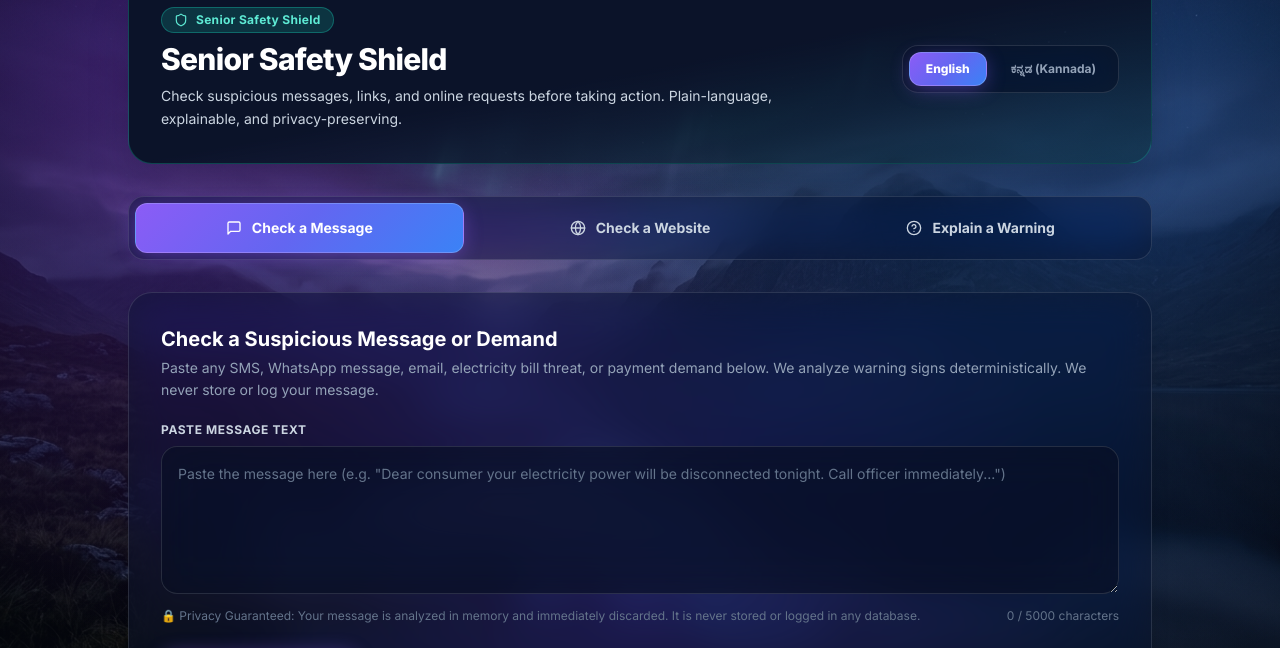
Scenario: Senior Safety Shield — Frontend & Dashboard Integration › SafetyShieldPage Component › Check a Message: handles API failure with clear error alert
The image size is (1280, 648).
Replace the text in the text box with placeholder "Paste the message here" with "Suspicious test message" at (640, 520), box 161,446 -> 1119,594
(page scrolled)
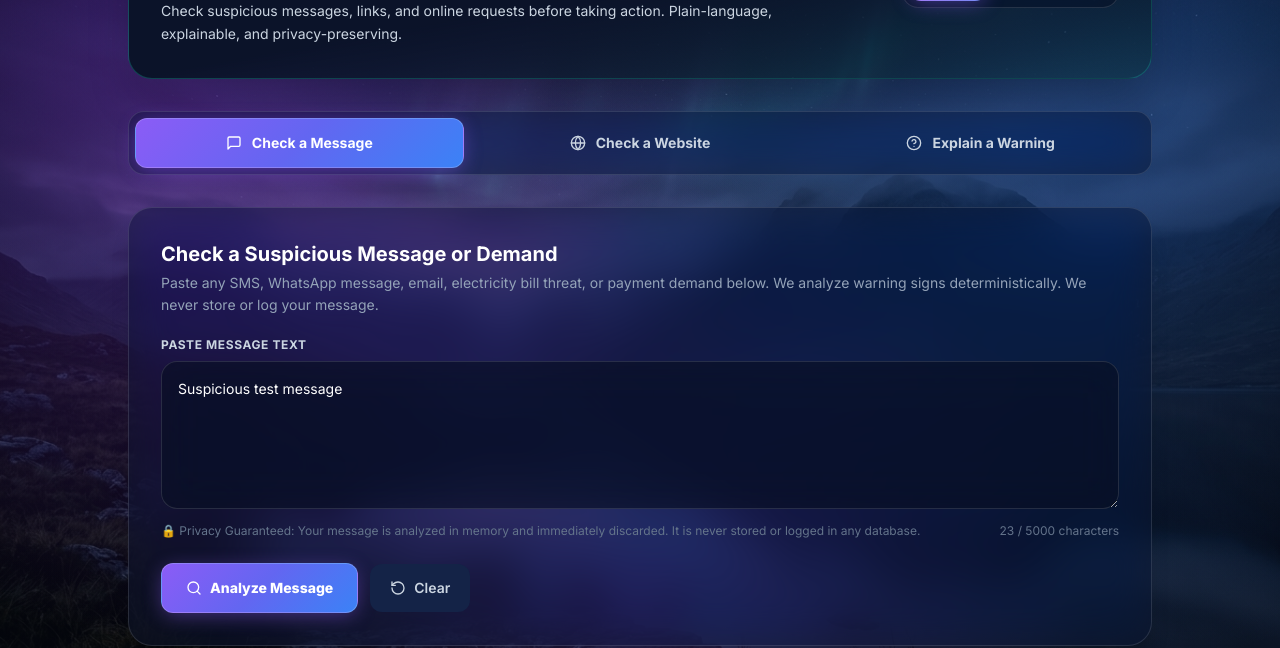
Click the button "Analyze Message".
click(260, 588)  # box 161,563 -> 358,613
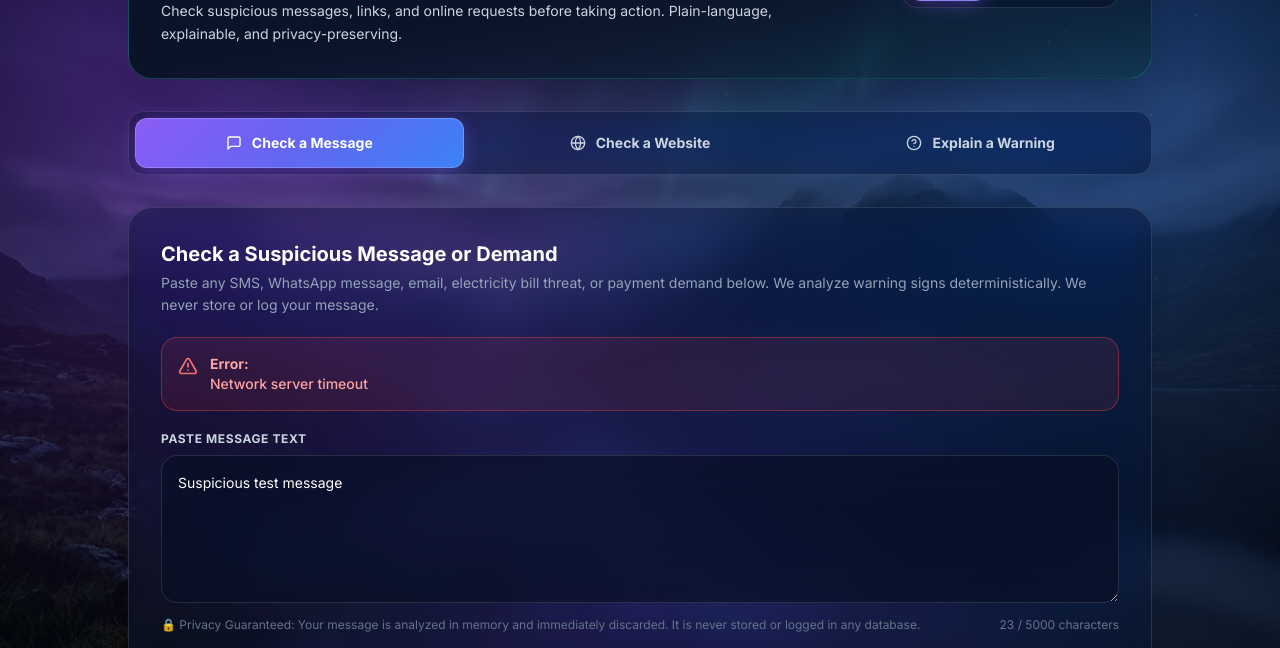
Now the message "Error: Network server timeout" is shown, box 161,337 -> 1119,411
Now the text "Network server timeout" is shown, box 210,374 -> 368,394
